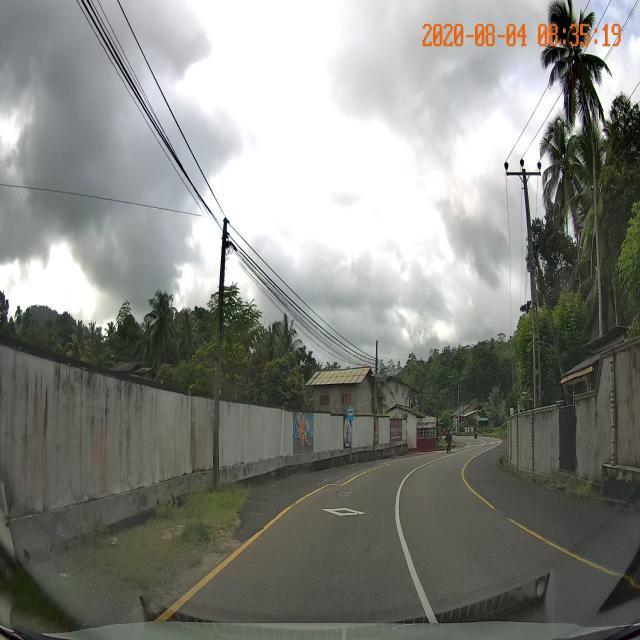diamond: (270, 493, 404, 535)
